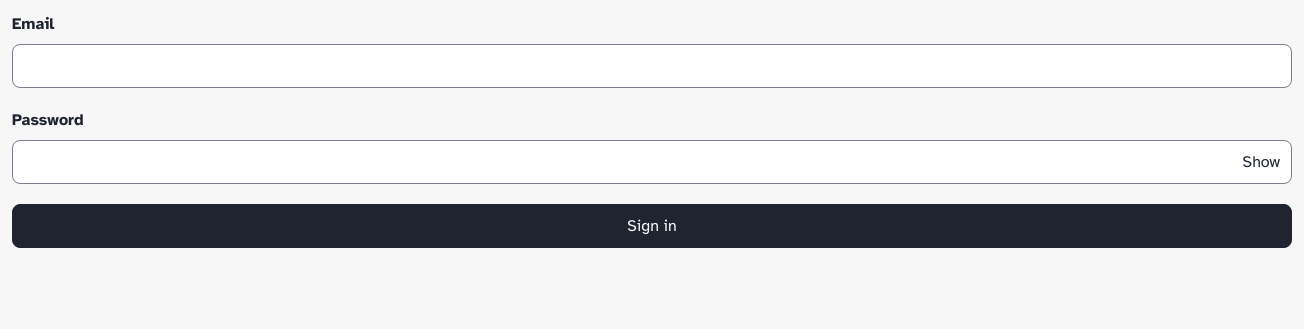
AdminLoginForm › uses one message for any invalid credential
Type "admin@example.com" into the field labelled "Email". click: (652, 66)
box: [12, 44, 1292, 88]
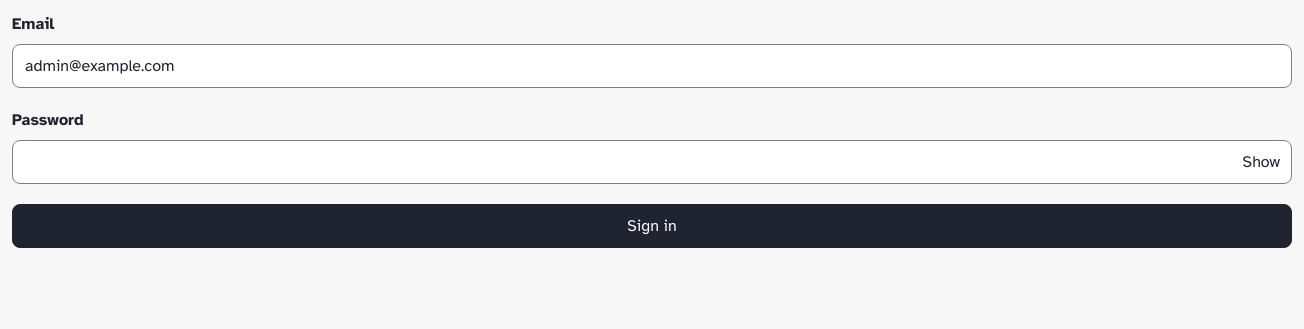
Type "secret" into the password field labelled "Password". click: (652, 162)
box: [12, 140, 1292, 184]
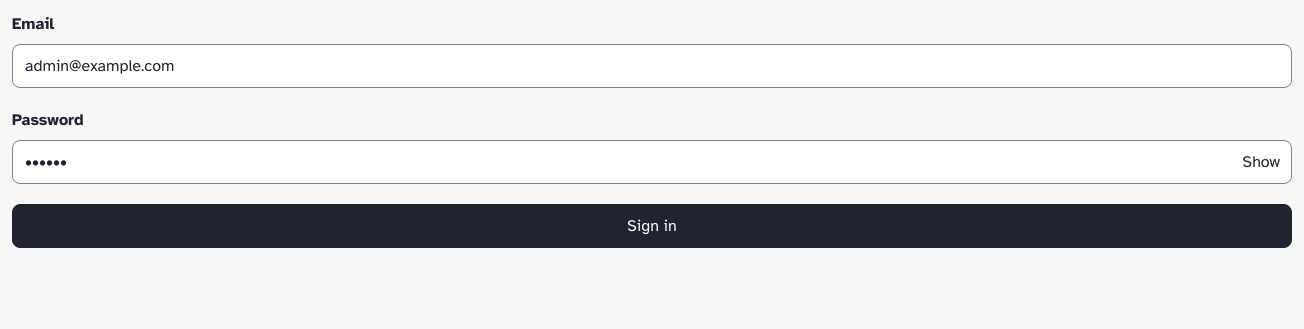
Click the button "Sign in". click: (652, 226)
box: [12, 204, 1292, 248]
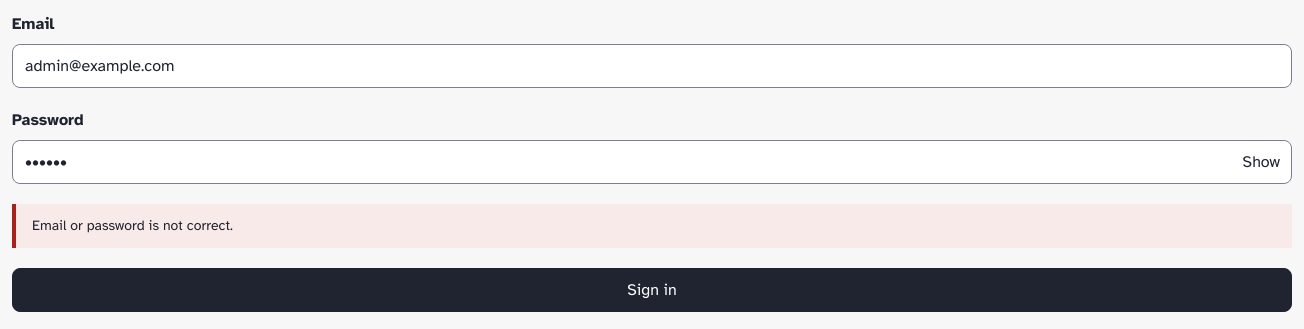
Now the message reads "Email or password is not correct.", box [32, 217, 233, 234]
